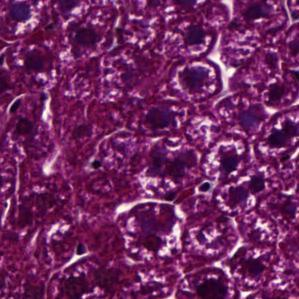inflammation: (113, 200, 184, 261), (168, 57, 223, 101), (222, 240, 273, 287), (202, 133, 251, 170)
